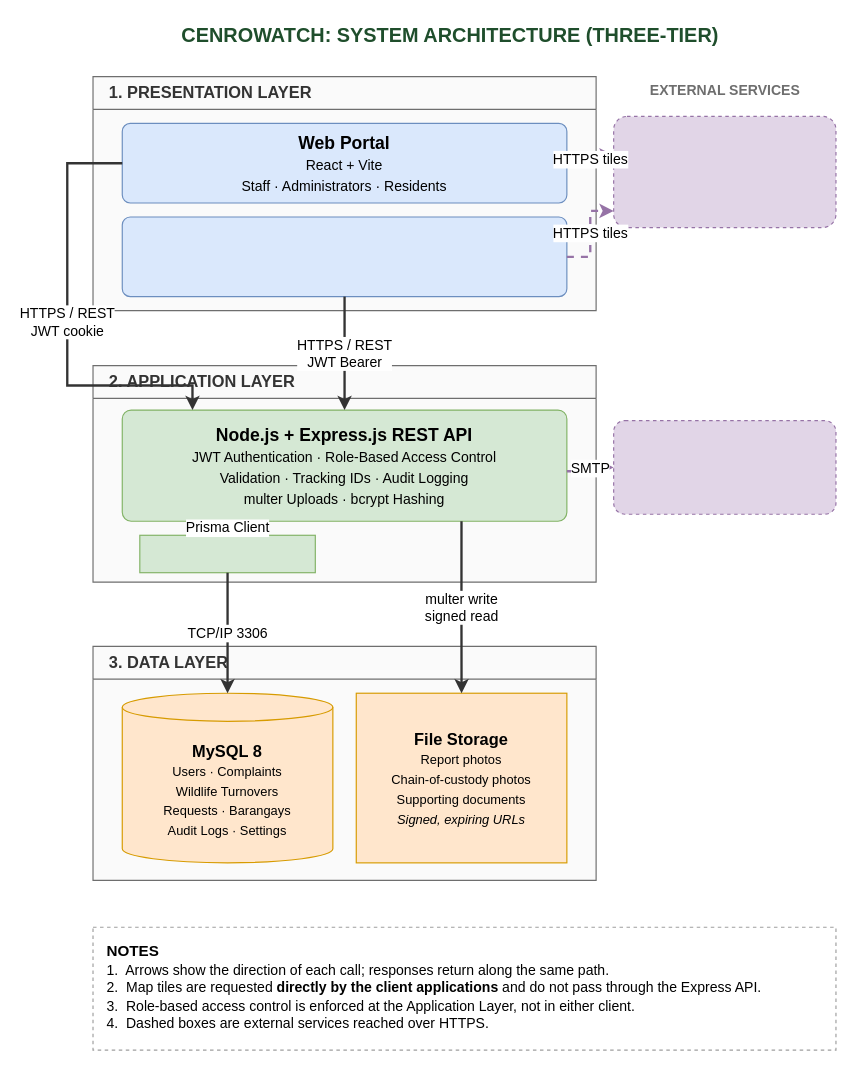
The diagram is 868 pixels wide and 1071 high, and some of its shapes have lost their labels. The shapes that lost their labels are listed below. From the top down, each one's centre as x and y in pixels, then its label:
the point at 724,171: MapTiler Cloud Base map tiles rendered client-side by MapLibre
the point at 344,256: Mobile Application React Native + Expo Residents
the point at 724,466: Gmail SMTP via Nodemailer Email notifications
the point at 227,553: Prisma ORM
